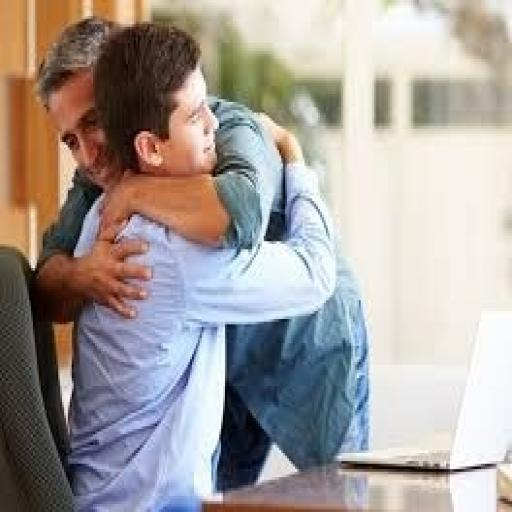hugging: (31, 14, 345, 510)
